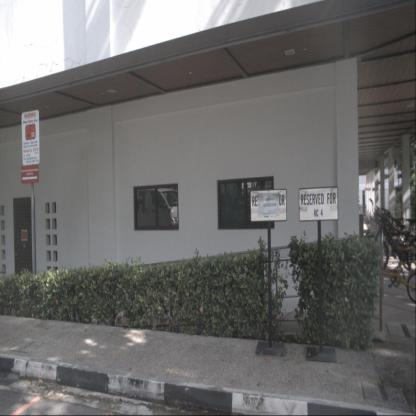vehicle-car: (118, 188, 187, 242)
